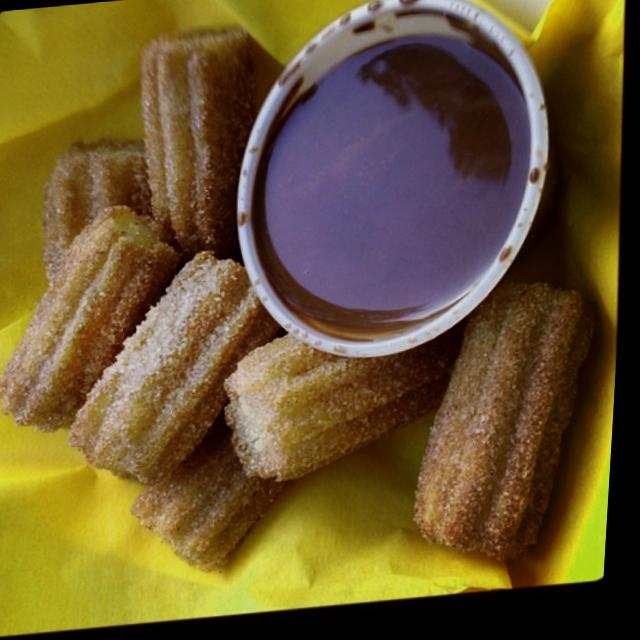炸货点心: (0, 0, 623, 616)
